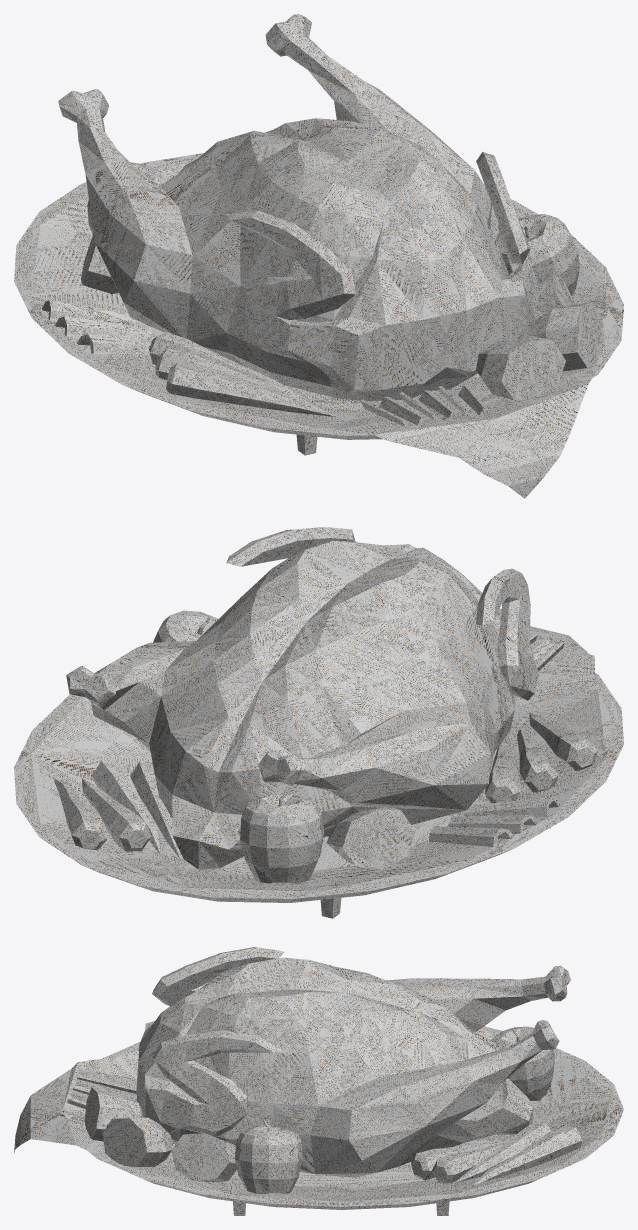
Rendered from Roast Chicken.dae.
The picture shows the model from 3 angles, top to bottom: view 1: azimuth 30°, elevation 25°; view 2: azimuth 150°, elevation 25°; view 3: azimuth 270°, elevation 25°; orthographic projection. The views are drawn at different scales.
Visible parts, largest first — view 1: Component (×17); view 2: Component (×17); view 3: Component (×14).
Part boxes in pixels (left/top/right/bottom): Component (×17): left=14, top=14, right=623, bottom=498; Component (×17): left=14, top=527, right=623, bottom=902; Component (×14): left=14, top=947, right=623, bottom=1209.
Size of the model in its own units: 40.95 by 54.38 by 20.49.
